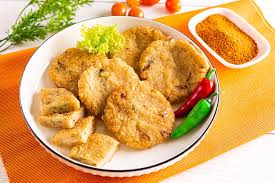Pempek kulit: (101, 85, 178, 150), (141, 36, 209, 99), (73, 56, 147, 94), (49, 41, 85, 88)
